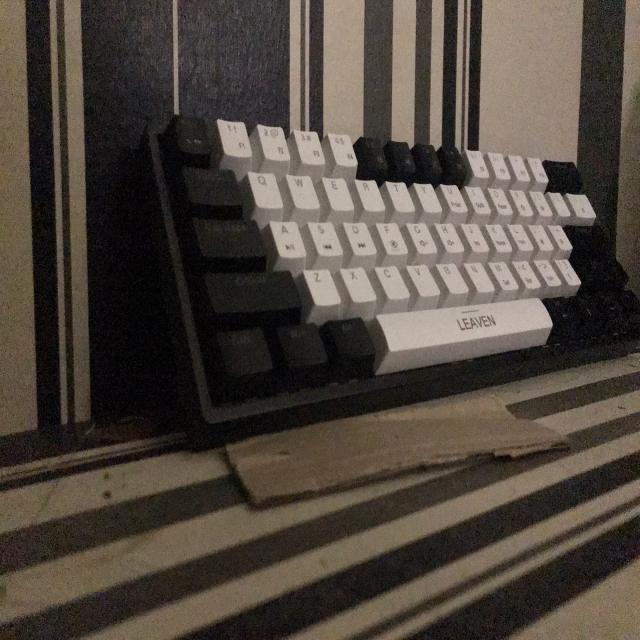-mouse-: (137, 109, 640, 447)
